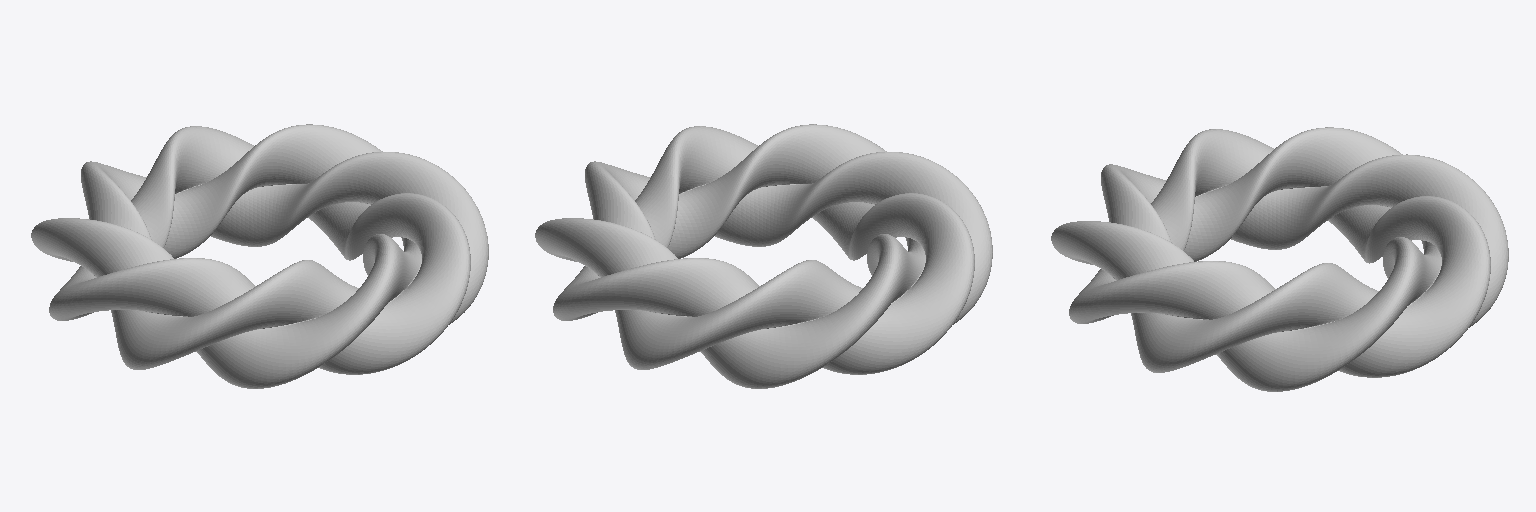
File: twistedtorus.obj
3 renders of one model, left to right at view 1: azimuth 30°, elevation 25°; view 2: azimuth 150°, elevation 25°; view 3: azimuth 270°, elevation 25°, orthographic.
Visible parts, largest first — view 1: XYZ_Function.009; view 2: XYZ_Function.009; view 3: XYZ_Function.009.
Part boxes in pixels (bbox=[...]): XYZ_Function.009: bbox=[31, 124, 488, 388]; XYZ_Function.009: bbox=[535, 124, 992, 388]; XYZ_Function.009: bbox=[1051, 127, 1508, 391].
Bounding box in the file's own units: 16.17 × 4.5 × 16.33.